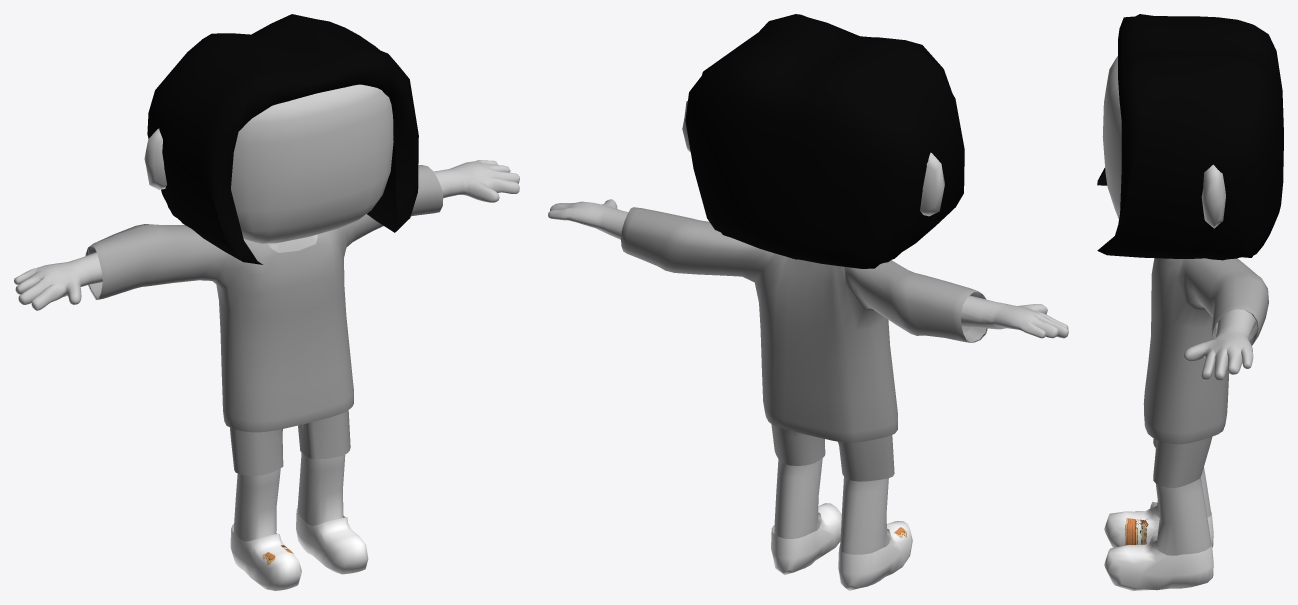
The model's file is set B.fbx.
The picture shows the model from 3 angles, left to right: view 1: azimuth 30°, elevation 25°; view 2: azimuth 150°, elevation 25°; view 3: azimuth 270°, elevation 25°; orthographic projection. The views are drawn at different scales.
Visible parts, largest first — view 1: polySurface5, LONGSLEVE, U2, short, SHOEKANAN, SHOEKALIWA; view 2: U2, LONGSLEVE, polySurface5, short, SHOEKANAN, SHOEKALIWA; view 3: U2, LONGSLEVE, polySurface5, SHOEKALIWA, short, SHOEKANAN.
Part boxes in pixels (box(x1,y1,x2,y2)): polySurface5: box(14, 84, 519, 541); LONGSLEVE: box(85, 165, 443, 432); U2: box(147, 14, 418, 264); short: box(230, 410, 350, 476); SHOEKANAN: box(230, 524, 301, 590); SHOEKALIWA: box(296, 508, 368, 574); U2: box(685, 14, 964, 268); LONGSLEVE: box(621, 207, 987, 442); polySurface5: box(548, 101, 1068, 554); short: box(771, 424, 894, 481); SHOEKANAN: box(838, 521, 912, 590); SHOEKALIWA: box(771, 503, 841, 574); U2: box(1097, 14, 1283, 260); LONGSLEVE: box(1143, 258, 1268, 444); polySurface5: box(1102, 56, 1256, 555); SHOEKALIWA: box(1104, 535, 1213, 590); short: box(1153, 437, 1212, 488); SHOEKANAN: box(1104, 501, 1213, 547).
Size of the model in its own units: 3.42 by 3.38 by 1.08.
